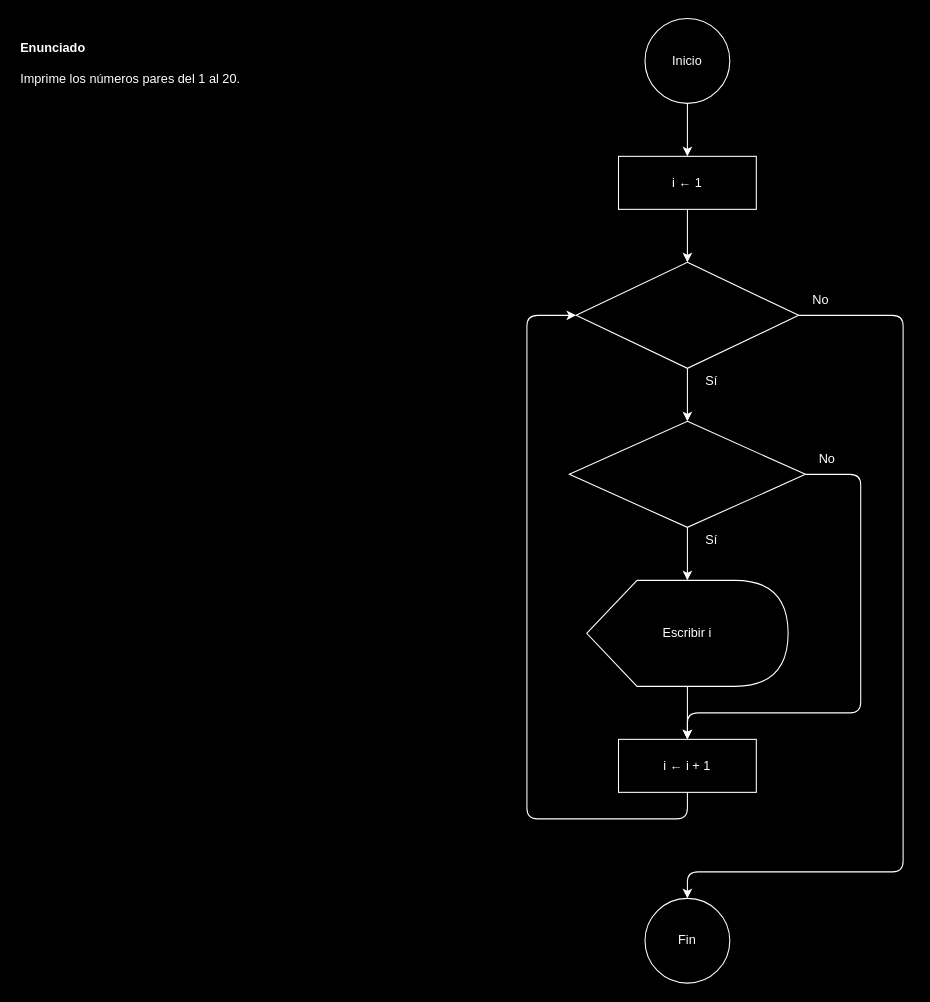
Image size: 930x1002. Some labels were removed from this diagram. The centre of each missing label's shape, as x and y in pixels:
¿i <= 20?: pixel 687 314
¿i MOD 2 = 0?: pixel 686 473
